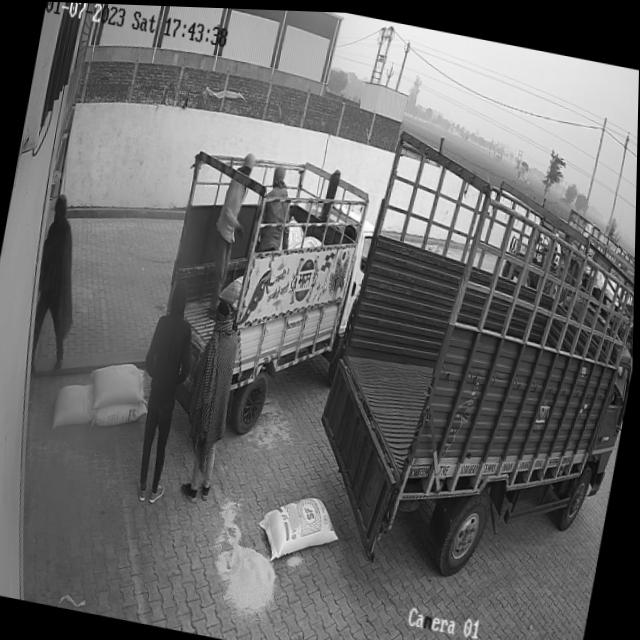sack: (256, 487, 347, 569), (86, 354, 151, 416), (51, 377, 99, 434), (96, 391, 152, 434)
